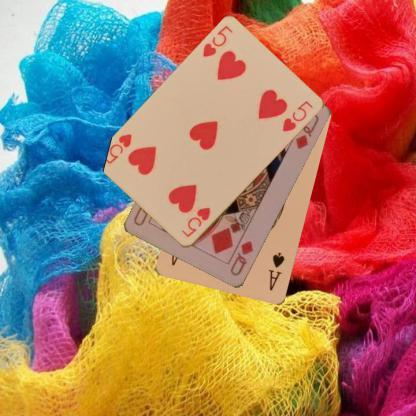5h: (200, 23, 234, 59), (179, 205, 212, 239)
As: (267, 250, 286, 292)
Qd: (228, 237, 255, 278)
